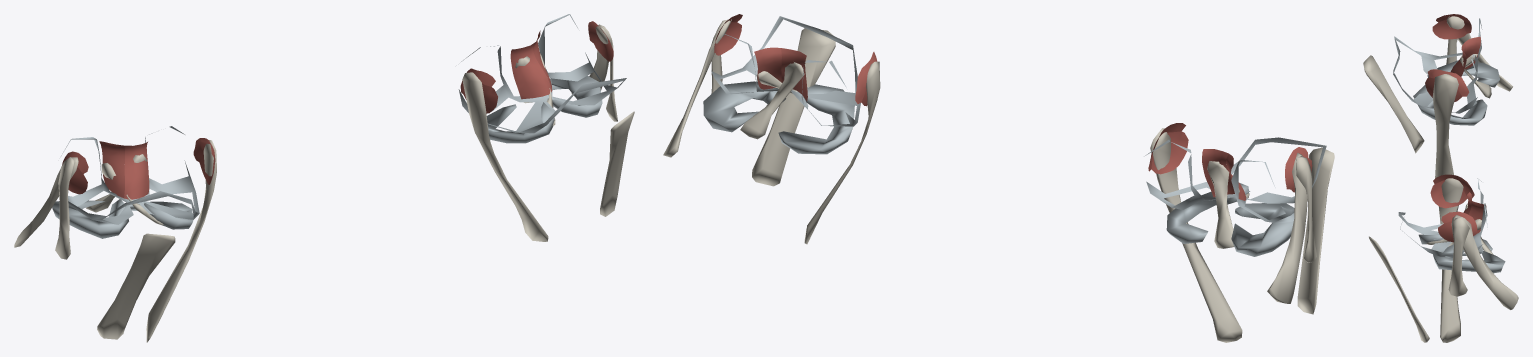
The model's file is adult_female.joint.LOD3.glb.
3 views of the same model, side by side, from view 1: azimuth 30°, elevation 25°; view 2: azimuth 150°, elevation 25°; view 3: azimuth 270°, elevation 25° (orthographic). The views are drawn at different scales.
Visible parts, largest first — view 1: ADULT.FEMALE.JOINT.ARTICULAR_CARTILAGE_OF_KNEE.L, ADULT.FEMALE.JOINT.PATELLAR_LIGAMENT.R, ADULT.FEMALE.JOINT.ARTICULAR_CARTILAGE_OF_KNEE.R, ADULT.FEMALE.JOINT.TIBIAL_COLLATERAL_LIGAMENT.L, ADULT.FEMALE.JOINT.MENISCUS.L, ADULT.FEMALE.JOINT.MENISCUS.R, ADULT.FEMALE.JOINT.TIBIAL_COLLATERAL_LIGAMENT.R, ADULT.FEMALE.JOINT.PATELLAR_LIGAMENT.L, ADULT.FEMALE.JOINT.POSTERIOR_CRUCIATE_ENTHESIS.L, ADULT.FEMALE.JOINT.POSTERIOR_CRUCIATE_ENTHESIS.R, ADULT.FEMALE.JOINT.ANTEROLATERAL_LIGAMENT_OF_KNEE.R, ADULT.FEMALE.JOINT.ANTERIOR_CRUCIATE_ENTHESIS.R (+2 smaller); view 2: ADULT.FEMALE.JOINT.MENISCUS.L, ADULT.FEMALE.JOINT.MENISCUS.R, ADULT.FEMALE.JOINT.PATELLAR_LIGAMENT.L, ADULT.FEMALE.JOINT.TIBIAL_COLLATERAL_LIGAMENT.R, ADULT.FEMALE.JOINT.PATELLAR_LIGAMENT.R, ADULT.FEMALE.JOINT.ARTICULAR_CARTILAGE_OF_KNEE.R, ADULT.FEMALE.JOINT.ARTICULAR_CARTILAGE_OF_KNEE.L, ADULT.FEMALE.JOINT.FIBULAR_COLLATERAL_LIGAMENT.R, ADULT.FEMALE.JOINT.POSTERIOR_CRUCIATE_LIGAMENT_OF_KNEE.R, ADULT.FEMALE.JOINT.POSTERIOR_CRUCIATE_LIGAMENT_OF_KNEE.L, ADULT.FEMALE.JOINT.TIBIAL_COLLATERAL_LIGAMENT.L, ADULT.FEMALE.JOINT.FIBULAR_COLLATERAL_LIGAMENT.L (+6 smaller); view 3: ADULT.FEMALE.JOINT.TIBIAL_COLLATERAL_LIGAMENT.R, ADULT.FEMALE.JOINT.TIBIAL_COLLATERAL_LIGAMENT.L, ADULT.FEMALE.JOINT.MENISCUS.R, ADULT.FEMALE.JOINT.FIBULAR_COLLATERAL_LIGAMENT.L, ADULT.FEMALE.JOINT.ARTICULAR_CARTILAGE_OF_KNEE.R, ADULT.FEMALE.JOINT.PATELLAR_LIGAMENT.R, ADULT.FEMALE.JOINT.ANTEROLATERAL_LIGAMENT_OF_KNEE.L, ADULT.FEMALE.JOINT.MENISCUS.L, ADULT.FEMALE.JOINT.ARTICULAR_CARTILAGE_OF_KNEE.L, ADULT.FEMALE.JOINT.PATELLAR_LIGAMENT.L, ADULT.FEMALE.JOINT.FIBULAR_COLLATERAL_LIGAMENT.R, ADULT.FEMALE.JOINT.LATERAL_PERICHONDULAR_SURFACE.R (+12 smaller).
Part boxes in pixels (left/top/right/bottom): ADULT.FEMALE.JOINT.ARTICULAR_CARTILAGE_OF_KNEE.L: left=458, top=14, right=626, bottom=133; ADULT.FEMALE.JOINT.PATELLAR_LIGAMENT.R: left=97, top=233, right=175, bottom=339; ADULT.FEMALE.JOINT.ARTICULAR_CARTILAGE_OF_KNEE.R: left=61, top=126, right=199, bottom=224; ADULT.FEMALE.JOINT.TIBIAL_COLLATERAL_LIGAMENT.L: left=462, top=72, right=548, bottom=241; ADULT.FEMALE.JOINT.MENISCUS.L: left=486, top=75, right=602, bottom=143; ADULT.FEMALE.JOINT.MENISCUS.R: left=52, top=199, right=193, bottom=238; ADULT.FEMALE.JOINT.TIBIAL_COLLATERAL_LIGAMENT.R: left=146, top=140, right=216, bottom=342; ADULT.FEMALE.JOINT.PATELLAR_LIGAMENT.L: left=600, top=111, right=634, bottom=216; ADULT.FEMALE.JOINT.POSTERIOR_CRUCIATE_ENTHESIS.L: left=510, top=42, right=551, bottom=99; ADULT.FEMALE.JOINT.POSTERIOR_CRUCIATE_ENTHESIS.R: left=124, top=142, right=149, bottom=199; ADULT.FEMALE.JOINT.ANTEROLATERAL_LIGAMENT_OF_KNEE.R: left=55, top=157, right=74, bottom=259; ADULT.FEMALE.JOINT.ANTERIOR_CRUCIATE_ENTHESIS.R: left=99, top=141, right=124, bottom=198; ADULT.FEMALE.JOINT.MENISCUS.L: left=703, top=81, right=854, bottom=154; ADULT.FEMALE.JOINT.MENISCUS.R: left=1166, top=183, right=1294, bottom=256; ADULT.FEMALE.JOINT.PATELLAR_LIGAMENT.L: left=752, top=28, right=835, bottom=186; ADULT.FEMALE.JOINT.TIBIAL_COLLATERAL_LIGAMENT.R: left=1150, top=128, right=1242, bottom=342; ADULT.FEMALE.JOINT.PATELLAR_LIGAMENT.R: left=1297, top=147, right=1334, bottom=314; ADULT.FEMALE.JOINT.ARTICULAR_CARTILAGE_OF_KNEE.R: left=1144, top=137, right=1326, bottom=222; ADULT.FEMALE.JOINT.ARTICULAR_CARTILAGE_OF_KNEE.L: left=711, top=16, right=860, bottom=126; ADULT.FEMALE.JOINT.FIBULAR_COLLATERAL_LIGAMENT.R: left=1267, top=153, right=1307, bottom=303; ADULT.FEMALE.JOINT.POSTERIOR_CRUCIATE_LIGAMENT_OF_KNEE.R: left=1207, top=161, right=1234, bottom=248; ADULT.FEMALE.JOINT.POSTERIOR_CRUCIATE_LIGAMENT_OF_KNEE.L: left=740, top=62, right=804, bottom=139; ADULT.FEMALE.JOINT.TIBIAL_COLLATERAL_LIGAMENT.L: left=804, top=61, right=880, bottom=244; ADULT.FEMALE.JOINT.FIBULAR_COLLATERAL_LIGAMENT.L: left=663, top=19, right=731, bottom=157; ADULT.FEMALE.JOINT.TIBIAL_COLLATERAL_LIGAMENT.R: left=1432, top=74, right=1458, bottom=178; ADULT.FEMALE.JOINT.TIBIAL_COLLATERAL_LIGAMENT.L: left=1438, top=178, right=1463, bottom=342; ADULT.FEMALE.JOINT.MENISCUS.R: left=1413, top=60, right=1499, bottom=125; ADULT.FEMALE.JOINT.FIBULAR_COLLATERAL_LIGAMENT.L: left=1451, top=215, right=1518, bottom=309; ADULT.FEMALE.JOINT.ARTICULAR_CARTILAGE_OF_KNEE.R: left=1393, top=18, right=1482, bottom=113; ADULT.FEMALE.JOINT.PATELLAR_LIGAMENT.R: left=1363, top=55, right=1424, bottom=153; ADULT.FEMALE.JOINT.ANTEROLATERAL_LIGAMENT_OF_KNEE.L: left=1448, top=217, right=1469, bottom=296; ADULT.FEMALE.JOINT.MENISCUS.L: left=1418, top=234, right=1505, bottom=273; ADULT.FEMALE.JOINT.ARTICULAR_CARTILAGE_OF_KNEE.L: left=1398, top=178, right=1487, bottom=256; ADULT.FEMALE.JOINT.PATELLAR_LIGAMENT.L: left=1369, top=236, right=1429, bottom=342; ADULT.FEMALE.JOINT.FIBULAR_COLLATERAL_LIGAMENT.R: left=1446, top=16, right=1512, bottom=91; ADULT.FEMALE.JOINT.LATERAL_PERICHONDULAR_SURFACE.R: left=1432, top=19, right=1466, bottom=39.
Size of the model in its own units: 0.3578 by 0.1167 by 0.1064.
